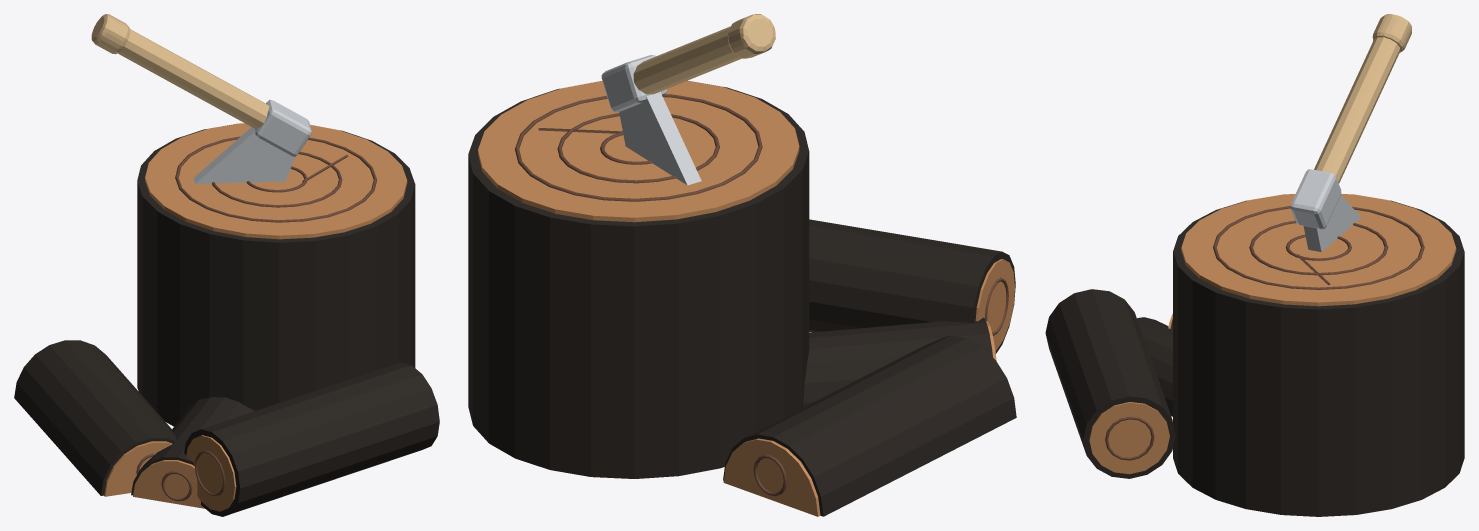
File: hh_cat_axe_logs.glb
The picture shows the model from 3 angles, left to right: view 1: azimuth 30°, elevation 25°; view 2: azimuth 150°, elevation 25°; view 3: azimuth 270°, elevation 25°; orthographic projection. The views are drawn at different scales.
Visible parts, largest first — view 1: block_bark, bark, block_face, bark.001, axe_handle, axe_blade, bark.002, end_grain, end_grain.005, axe_eye, end_grain.003, ring.002 (+2 smaller); view 2: block_bark, block_face, bark.001, bark, bark.002, end_grain.002, axe_blade, axe_handle, ring.002, end_grain, axe_knob, axe_eye (+1 smaller); view 3: block_bark, block_face, bark, axe_handle, end_grain.001, axe_eye, bark.002, ring.002, axe_blade, axe_knob, ring.001, ring.004.
Boxes of the visible parts, <box> form: block_bark: <box>137,125,415,426</box>; bark: <box>184,362,439,516</box>; block_face: <box>145,123,407,239</box>; bark.001: <box>14,340,175,495</box>; axe_handle: <box>118,29,269,128</box>; axe_blade: <box>193,127,294,183</box>; bark.002: <box>131,397,254,495</box>; end_grain: <box>186,435,236,511</box>; end_grain.005: <box>133,460,204,508</box>; axe_eye: <box>255,100,311,156</box>; end_grain.003: <box>104,441,172,496</box>; ring.002: <box>175,136,376,222</box>; block_bark: <box>468,82,809,478</box>; block_face: <box>478,80,799,222</box>; bark.001: <box>723,335,1016,516</box>; bark: <box>809,219,1015,353</box>; bark.002: <box>803,317,992,407</box>; end_grain.002: <box>723,438,820,516</box>; axe_blade: <box>619,92,701,185</box>; axe_handle: <box>633,26,741,94</box>; ring.002: <box>515,94,762,201</box>; end_grain: <box>975,259,1014,350</box>; axe_knob: <box>727,14,775,58</box>; axe_eye: <box>601,55,666,111</box>; block_bark: <box>1173,200,1464,516</box>; block_face: <box>1181,193,1456,306</box>; bark: <box>1045,289,1175,478</box>; axe_handle: <box>1314,37,1400,183</box>; end_grain.001: <box>1089,402,1169,474</box>; axe_eye: <box>1290,169,1341,229</box>; bark.002: <box>1137,317,1172,416</box>; ring.002: <box>1213,206,1424,289</box>; axe_blade: <box>1303,195,1361,251</box>; axe_knob: <box>1372,14,1411,52</box>; ring.001: <box>1249,220,1388,275</box>; ring.004: <box>1105,416,1154,460</box>.
Size of the model in its own units: 0.4 by 0.4 by 0.4.
